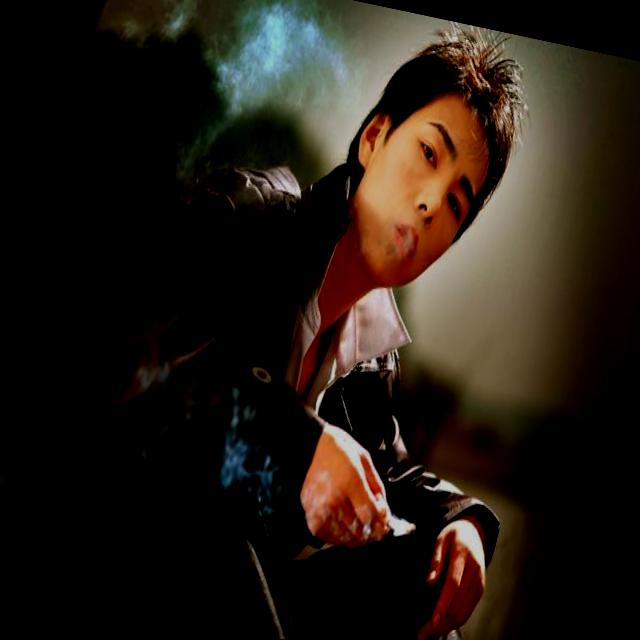smoke: (342, 472, 412, 541)
